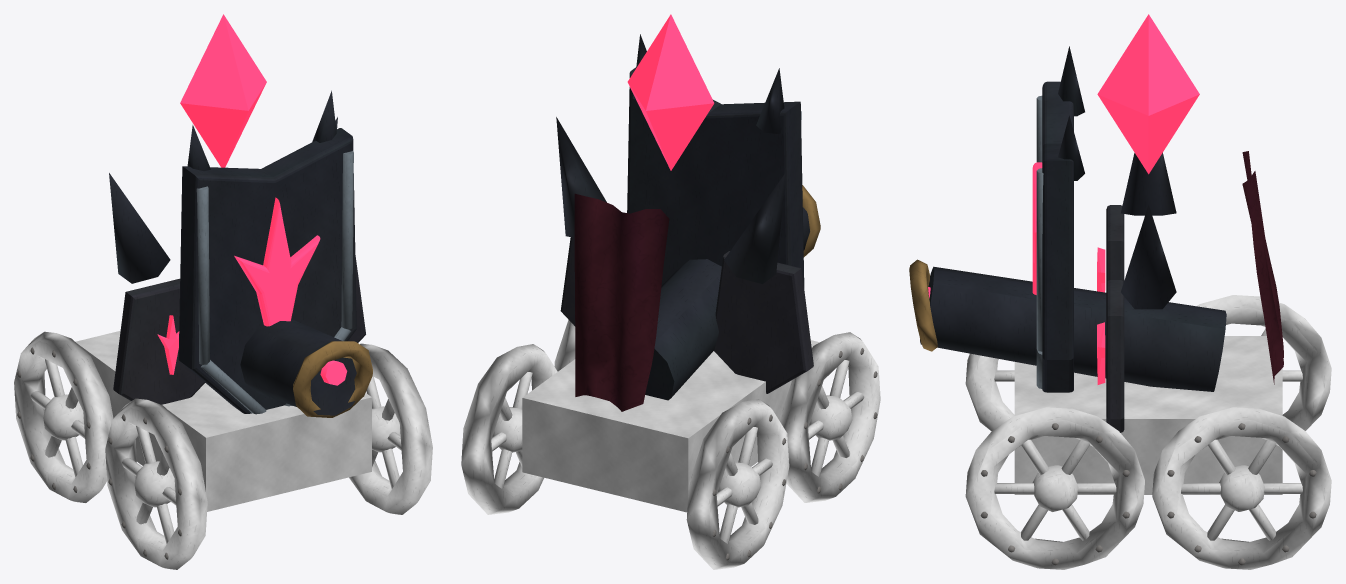
The model's file is red_siege.gltf.
The picture shows the model from 3 angles, left to right: view 1: azimuth 30°, elevation 25°; view 2: azimuth 150°, elevation 25°; view 3: azimuth 270°, elevation 25°; orthographic projection. The views are drawn at different scales.
Visible parts, largest first — view 1: red_siege__siege_banner, red_siege__Mesh_10, red_siege__Mesh_4, red_siege__Mesh_1, red_siege__Mesh_7; view 2: red_siege__siege_banner, red_siege__Mesh_10, red_siege__Mesh_1, red_siege__Mesh_4, red_siege__Mesh_5, red_siege__Mesh_7; view 3: red_siege__siege_banner, red_siege__Mesh_5, red_siege__Mesh_7, red_siege__Mesh_10, red_siege__Mesh_1, red_siege__Mesh_4.
Boxes of the visible parts, bbox=[...] form: red_siege__siege_banner: bbox=[17, 14, 372, 559]; red_siege__Mesh_10: bbox=[178, 90, 356, 414]; red_siege__Mesh_4: bbox=[105, 398, 207, 569]; red_siege__Mesh_1: bbox=[14, 331, 113, 502]; red_siege__Mesh_7: bbox=[349, 343, 432, 514]; red_siege__siege_banner: bbox=[522, 14, 877, 560]; red_siege__Mesh_10: bbox=[627, 34, 804, 287]; red_siege__Mesh_1: bbox=[686, 399, 789, 569]; red_siege__Mesh_4: bbox=[780, 332, 880, 502]; red_siege__Mesh_5: bbox=[461, 344, 557, 514]; red_siege__Mesh_7: bbox=[554, 320, 575, 371]; red_siege__siege_banner: bbox=[909, 14, 1316, 565]; red_siege__Mesh_5: bbox=[1152, 407, 1331, 569]; red_siege__Mesh_7: bbox=[965, 407, 1144, 569]; red_siege__Mesh_10: bbox=[1032, 46, 1084, 392]; red_siege__Mesh_1: bbox=[1197, 295, 1331, 430]; red_siege__Mesh_4: bbox=[965, 353, 1014, 431].
Bounding box in the file's own units: 1.34 × 2.36 × 1.81.
5 materials, 3 textured.
